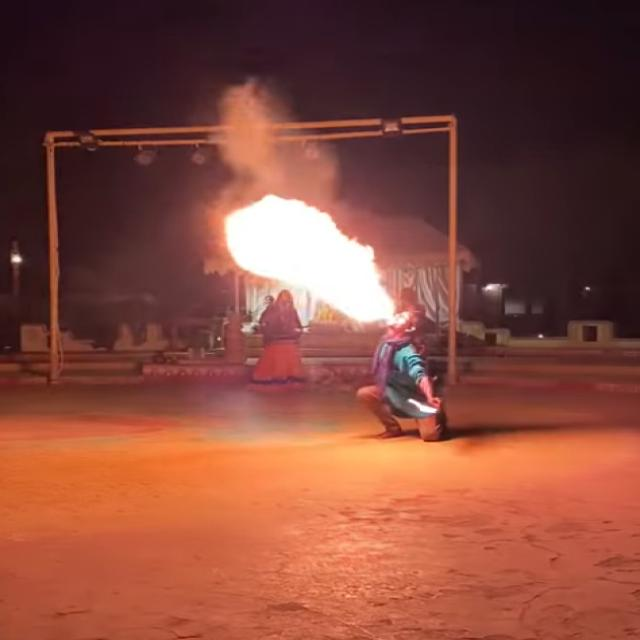fire: (224, 194, 395, 325)
